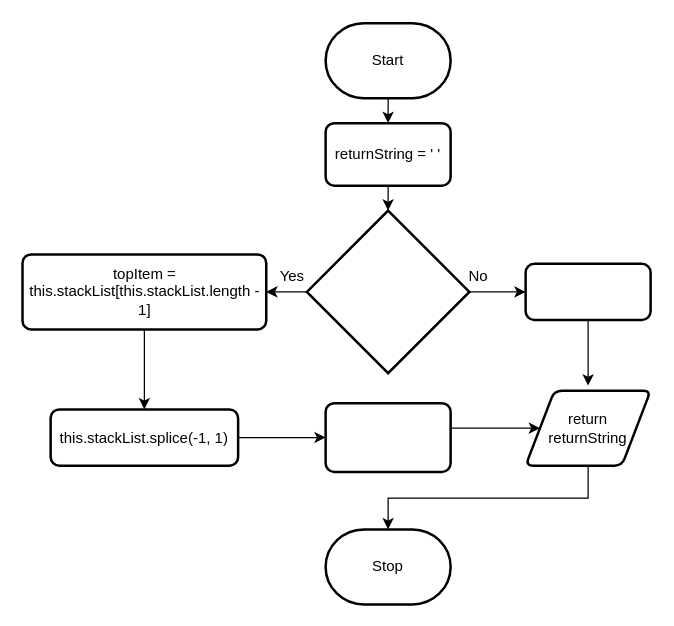
The diagram is 674 pixels wide and 626 high, and some of its shapes have lost their labels. Here are the shapes that lost their labels. From the top down, the centre of each, then its label:
At [387,291]: "if ( this.stackList.length > 0)".
At [587,291]: "returnString = 'Invalid Input!'".
At [387,436]: "returnString = topItem".
